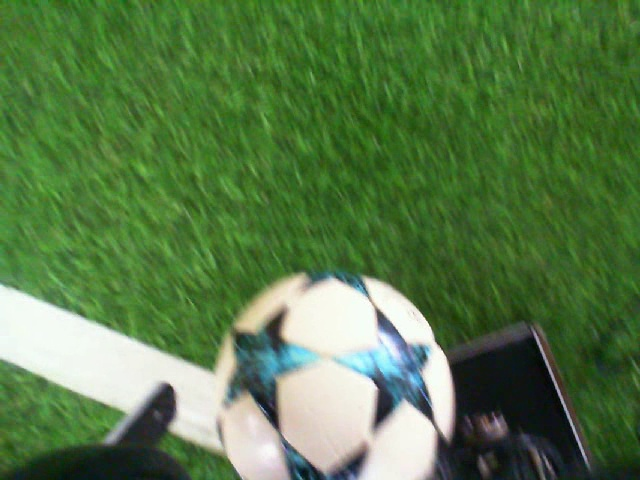ball: (210, 266, 459, 480)
